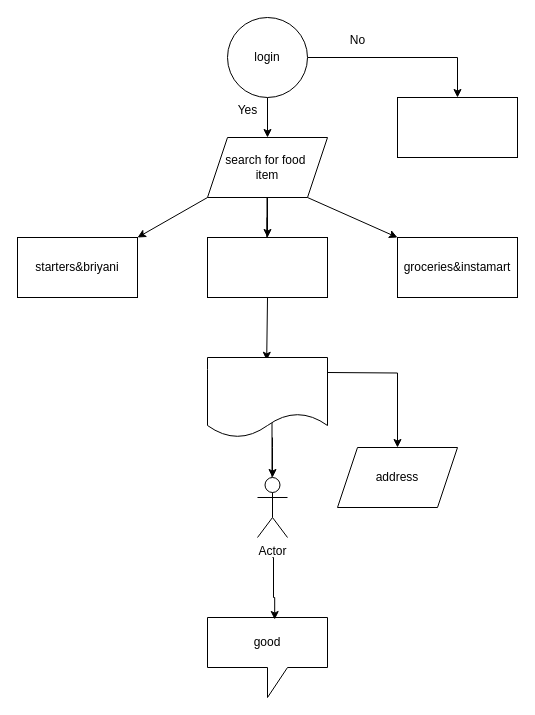
Image size: 535x715. Some labels were removed from this diagram. Here are the shapes that lost their labels. From the top down, the centre of each, then its label:
At point (457, 127): "register".
At point (267, 267): "restaurant name".
At point (267, 397): "payemnt".
